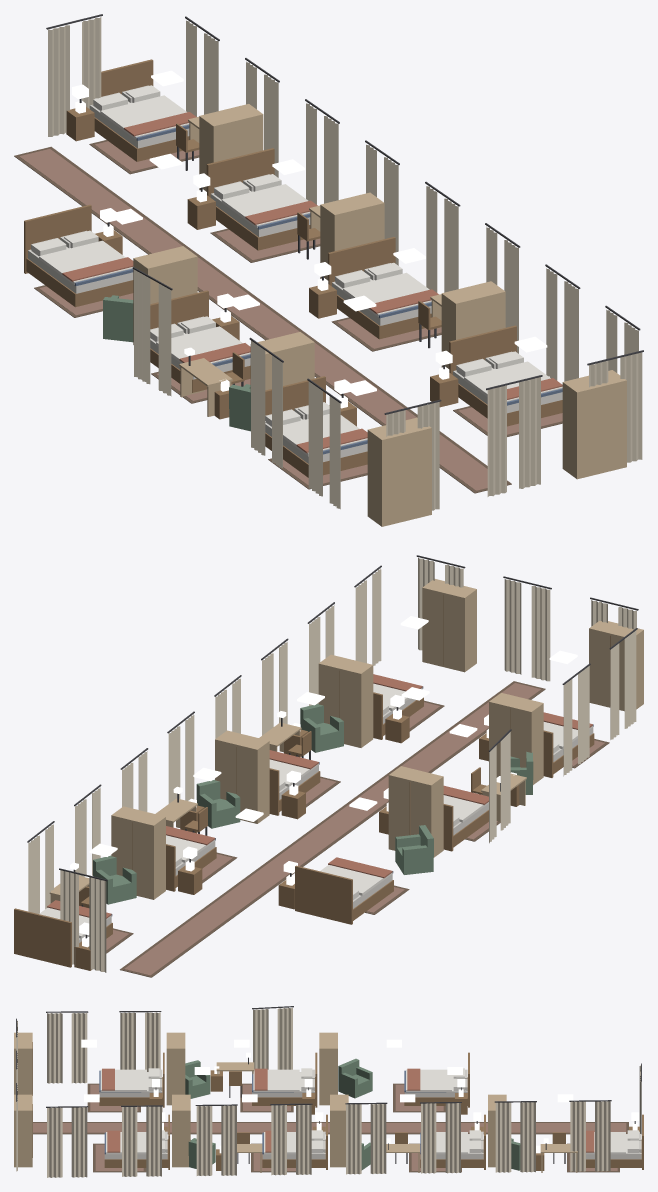
File: fine-s3.glb
The picture shows the model from 3 angles, top to bottom: view 1: azimuth 30°, elevation 25°; view 2: azimuth 150°, elevation 25°; view 3: azimuth 270°, elevation 25°; orthographic projection. The views are drawn at different scales.
Parts seen in each view (by area): view 1: soft-s3, dresser.020, dresser.016, bed-frame.014, bed-frame.018, bed-frame.019, bed-frame.017, bed-frame.020, dresser.019, dresser.017, dresser.018, bed-frame.016 (+10 smaller); view 2: soft-s3, dresser.020, dresser.019, dresser.017, dresser.014, dresser.018, bed-frame.014, dresser.015, dresser.016, bed-frame.017, lounge-chair.010, lounge-chair.013 (+13 smaller); view 3: soft-s3, dresser.019, dresser.015, dresser.020, dresser.014, dresser.018, dresser.016, lounge-chair.010, bed-frame.016, bed-frame.015, bed-frame.014, bed-frame.017 (+12 smaller).
Boxes of the visible parts, x1,y1,x2,y2 form: soft-s3: (14,14,643,510); dresser.020: (562,370,626,479); dresser.016: (367,417,431,526); bed-frame.014: (24,204,133,307); bed-frame.018: (206,148,310,250); bed-frame.019: (328,237,431,339); bed-frame.017: (89,59,189,161); bed-frame.020: (449,325,562,426); dresser.019: (441,281,505,368); dresser.017: (199,104,263,191); dresser.018: (320,192,384,280); bed-frame.016: (265,376,367,477); soft-s3: (27,555,638,977); dresser.020: (422,579,476,672); dresser.019: (318,654,373,747); dresser.017: (111,806,165,899); dresser.014: (388,766,443,857); dresser.018: (215,730,269,823); bed-frame.014: (295,865,393,924); dresser.015: (489,692,543,784); dresser.016: (589,621,643,711); bed-frame.017: (14,908,112,967); lounge-chair.010: (395,825,433,874); lounge-chair.013: (196,779,240,828); soft-s3: (16,1006,641,1177); dresser.019: (172,1094,190,1167); dresser.015: (166,1032,185,1105); dresser.020: (14,1094,32,1167); dresser.014: (319,1032,337,1105); dresser.018: (330,1094,348,1167); dresser.016: (14,1032,32,1095); lounge-chair.010: (338,1058,372,1098); bed-frame.016: (99,1052,164,1107); bed-frame.015: (252,1052,317,1107); bed-frame.014: (404,1052,469,1107); bed-frame.017: (586,1114,643,1169).
Size of the model in its own units: 7.66 by 2.56 by 20.18.
